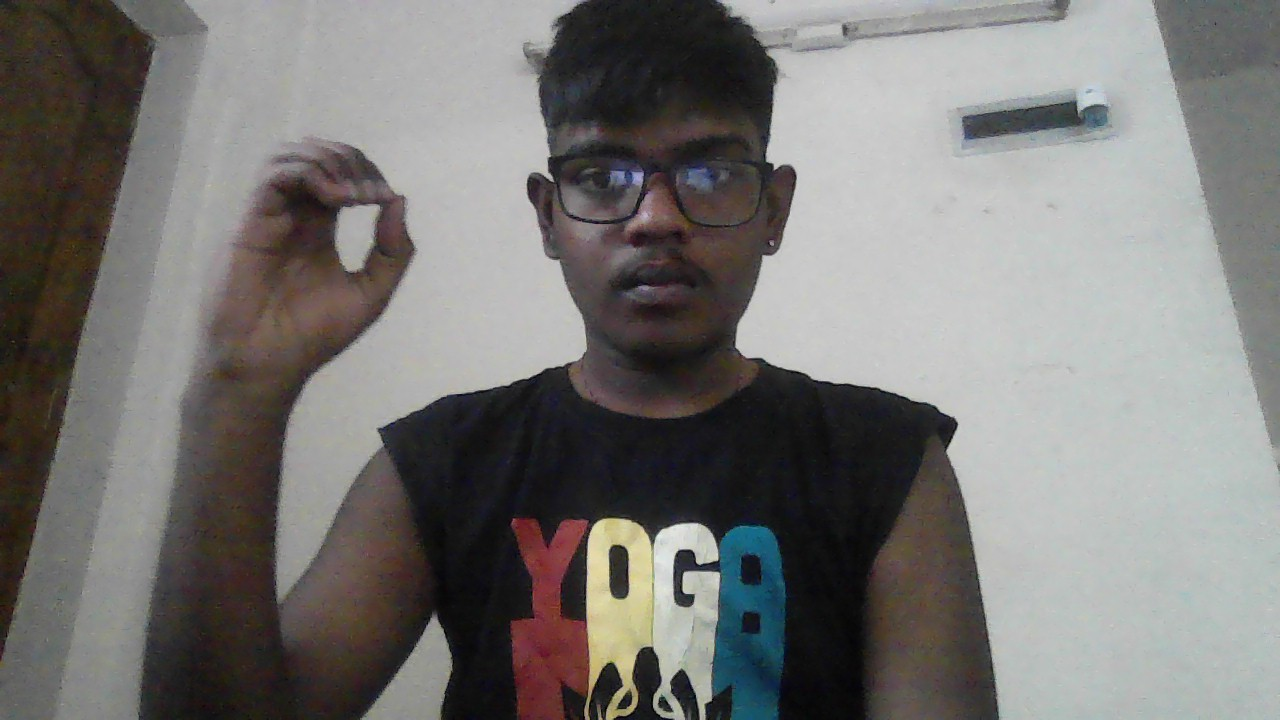O: (204, 135, 417, 377)
